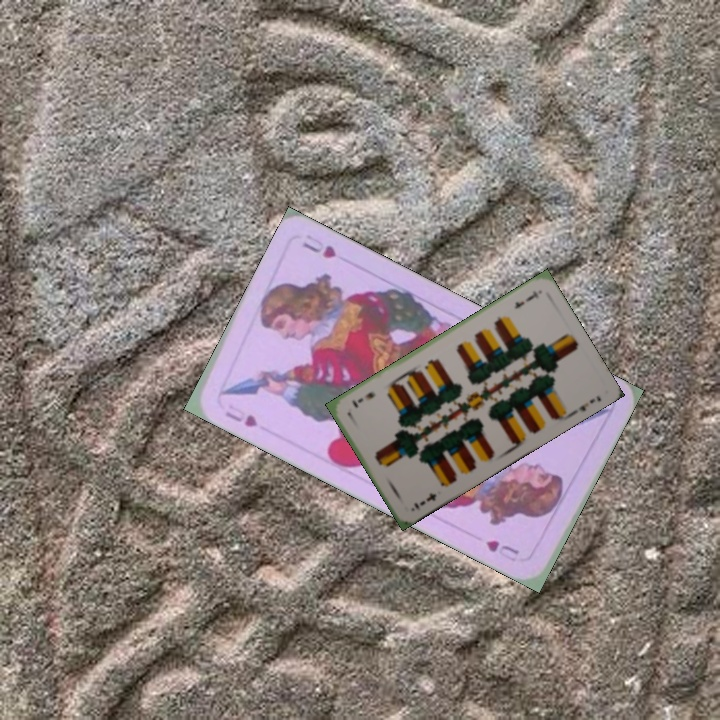E7: (510, 286, 541, 312), (410, 489, 439, 512)
HU: (220, 400, 260, 430)
